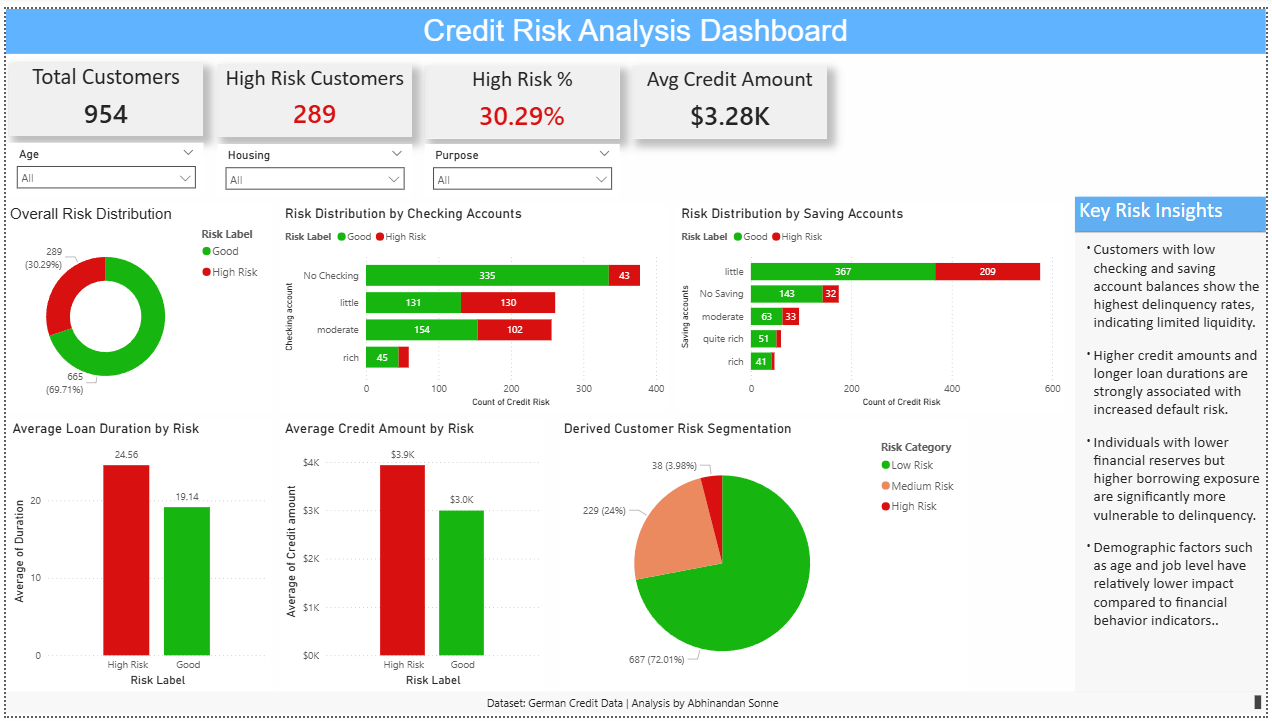

This screenshot's page, from the dashboard's own definition file:
{"tool":"powerbi","page":{"name":"Page 1","canvas":[1550,870],"ordinal":0},"visuals":[{"type":"card","title":"Total Customers","fields":{"Values":["CountNonNull(cleaned_credit_data.Age)"]},"box":[3.8,66.2,240,90],"z":0},{"type":"card","title":"High Risk Customers","fields":{"Values":["cleaned_credit_data.High Risk Customers"]},"box":[260,68.3,240,90],"z":1000},{"type":"card","title":"High Risk %","fields":{"Values":["cleaned_credit_data.High Risk %"]},"box":[516,68.7,240,90],"z":2000},{"type":"card","title":"Avg Credit Amount","fields":{"Values":["Avg(cleaned_credit_data.Credit amount)"]},"box":[770.5,68.5,240,90],"z":3000},{"type":"textbox","box":[0,0,1550,55],"z":4000},{"type":"donutChart","title":"Overall Risk Distribution","fields":{"Y":["CountNonNull(cleaned_credit_data.Credit Risk)"],"Category":["cleaned_credit_data.Risk Label"]},"box":[0,241.7,326.7,253.3],"z":5000},{"type":"barChart","title":"Risk Distribution by Checking Accounts","fields":{"Category":["cleaned_credit_data.Checking account"],"Y":["CountNonNull(cleaned_credit_data.Credit Risk)"],"Series":["cleaned_credit_data.Risk Label"]},"box":[338.3,241.7,476.7,253.3],"z":6000},{"type":"barChart","title":"Risk Distribution by Saving Accounts","fields":{"Category":["cleaned_credit_data.Saving accounts"],"Series":["cleaned_credit_data.Risk Label"],"Y":["CountNonNull(cleaned_credit_data.Credit Risk)"]},"box":[826.7,241.7,476.7,253.3],"z":7000},{"type":"clusteredColumnChart","title":"Average Credit Amount by Risk","fields":{"Category":["cleaned_credit_data.Risk Label"],"Y":["Avg(cleaned_credit_data.Credit amount)"]},"box":[338.3,506.7,323.3,333.3],"z":8000},{"type":"clusteredColumnChart","title":"Average Loan Duration by Risk","fields":{"Category":["cleaned_credit_data.Risk Label"],"Y":["Avg(cleaned_credit_data.Duration)"]},"box":[3.3,506.7,323.3,333.3],"z":9000},{"type":"pieChart","title":"Derived Customer Risk Segmentation","fields":{"Category":["cleaned_credit_data.Risk Category"],"Y":["CountNonNull(cleaned_credit_data.Risk Label)"]},"box":[681.7,506.7,503.3,333.3],"z":10000},{"type":"slicer","fields":{"Values":["cleaned_credit_data.Age"]},"box":[3.3,165,240,65],"z":11000},{"type":"slicer","fields":{"Values":["cleaned_credit_data.Housing"]},"box":[260,166.7,240,65],"z":12000},{"type":"slicer","fields":{"Values":["cleaned_credit_data.Purpose"]},"box":[516,166.7,240,65.3],"z":13000},{"type":"textbox","title":"Key Risk Insights","box":[1315,230,235,610],"z":14000},{"type":"textbox","box":[0,840,1550,26.7],"z":15000}]}

Visuals, with their boxes in screenshot pixels (x1, y1, x2, y2), scaled from the page's 1550x870 canvas onto the 1272x721 screenshot:
"Total Customers" card: detection(3, 55, 200, 129)
"High Risk Customers" card: detection(213, 57, 410, 131)
"High Risk %" card: detection(423, 57, 620, 132)
"Avg Credit Amount" card: detection(632, 57, 829, 131)
textbox: detection(0, 0, 1271, 46)
"Overall Risk Distribution" donutChart: detection(0, 200, 268, 410)
"Risk Distribution by Checking Accounts" barChart: detection(278, 200, 669, 410)
"Risk Distribution by Saving Accounts" barChart: detection(678, 200, 1070, 410)
"Average Credit Amount by Risk" clusteredColumnChart: detection(278, 420, 543, 696)
"Average Loan Duration by Risk" clusteredColumnChart: detection(3, 420, 268, 696)
"Derived Customer Risk Segmentation" pieChart: detection(559, 420, 972, 696)
slicer - cleaned_credit_data.Age: detection(3, 137, 200, 191)
slicer - cleaned_credit_data.Housing: detection(213, 138, 410, 192)
slicer - cleaned_credit_data.Purpose: detection(423, 138, 620, 192)
"Key Risk Insights" textbox: detection(1079, 191, 1271, 696)
textbox: detection(0, 696, 1271, 718)
